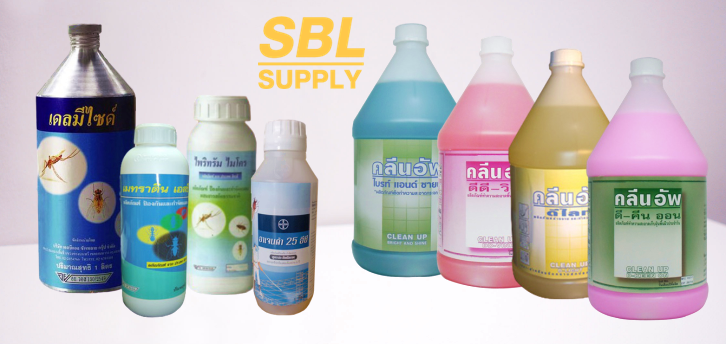Insecticide: (578, 49, 719, 326), (343, 18, 461, 285), (32, 19, 142, 299), (503, 43, 614, 306), (430, 33, 540, 294), (177, 87, 261, 300), (112, 120, 194, 323), (246, 114, 322, 318)
